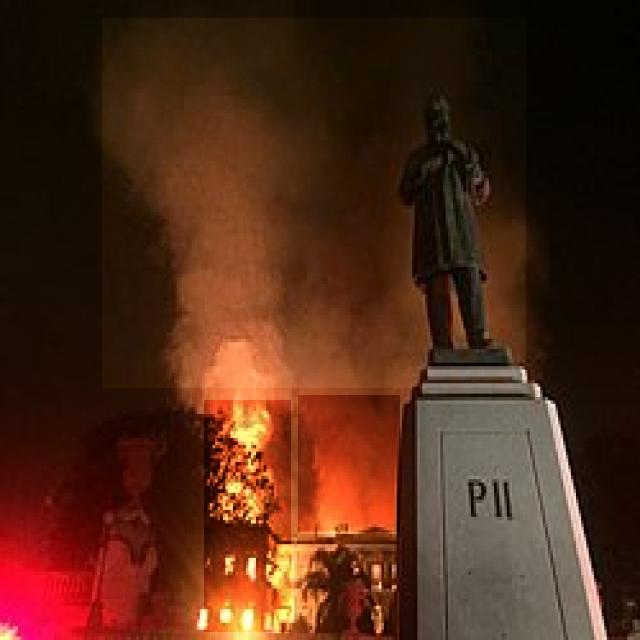Fire: (204, 400, 291, 632)
Smoke: (102, 18, 526, 388), (298, 395, 400, 532)
